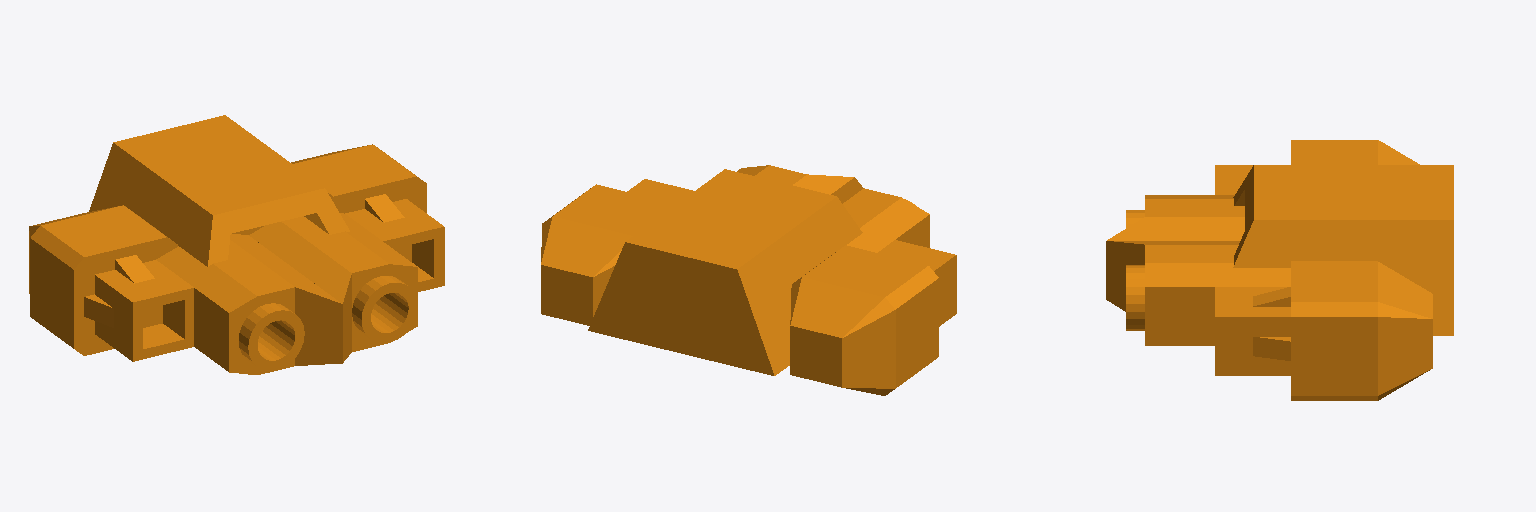
The model's file is flying_special_gold.obj.
3 views of the same model, side by side, from view 1: azimuth 30°, elevation 25°; view 2: azimuth 150°, elevation 25°; view 3: azimuth 270°, elevation 25° (orthographic).
Parts seen in each view (by area): view 1: mergedBlocks; view 2: mergedBlocks; view 3: mergedBlocks.
Boxes of the visible parts, box(x1,y1,x2,y2) form: mergedBlocks: box(29, 115, 444, 374); mergedBlocks: box(541, 165, 956, 395); mergedBlocks: box(1106, 140, 1453, 400).
Bounding box in the file's own units: 1.87 × 0.645 × 1.59.